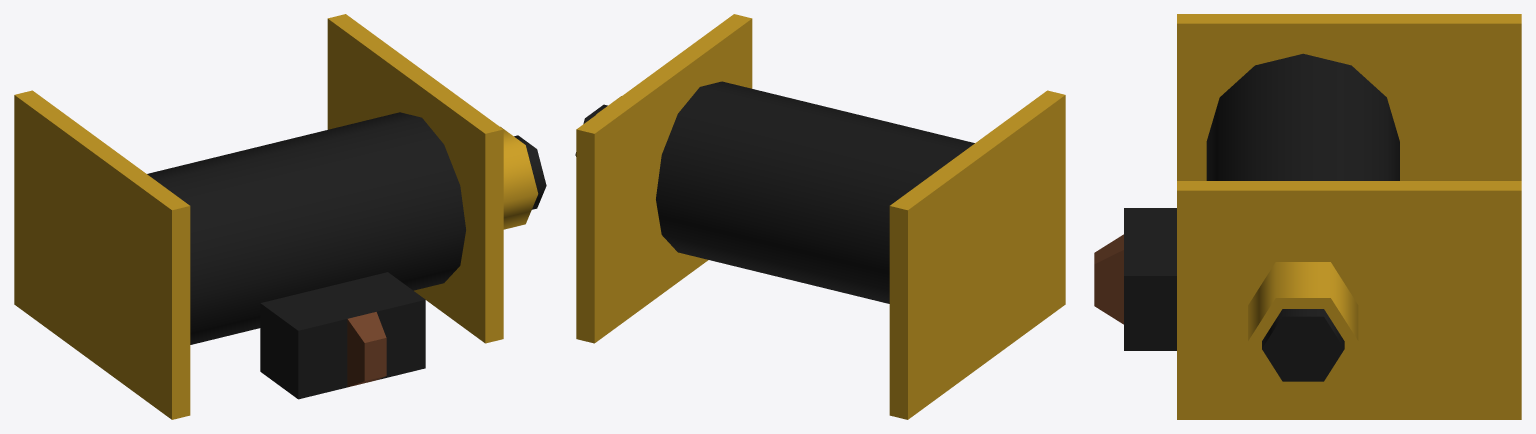
The model's file is trh_winch.obj.
3 views of the same model, side by side, from view 1: azimuth 30°, elevation 25°; view 2: azimuth 150°, elevation 25°; view 3: azimuth 270°, elevation 25° (orthographic). The views are drawn at different scales.
Parts seen in each view (by area): view 1: trh_winch; view 2: trh_winch; view 3: trh_winch.
Part boxes in pixels (x1,y1,x2,y2): trh_winch: [14, 14, 546, 419]; trh_winch: [575, 14, 1065, 419]; trh_winch: [1094, 14, 1521, 419].
Size of the model in its own units: 2.27 by 1.1 by 1.86.
